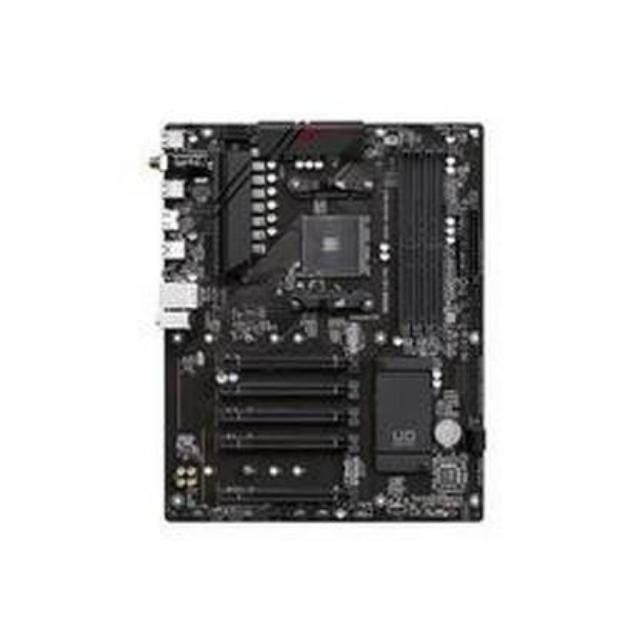Mainboard: (146, 118, 489, 540)
